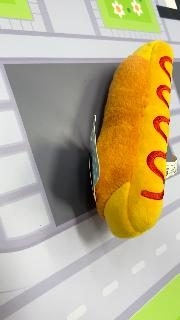hotdog: (92, 41, 175, 240)
